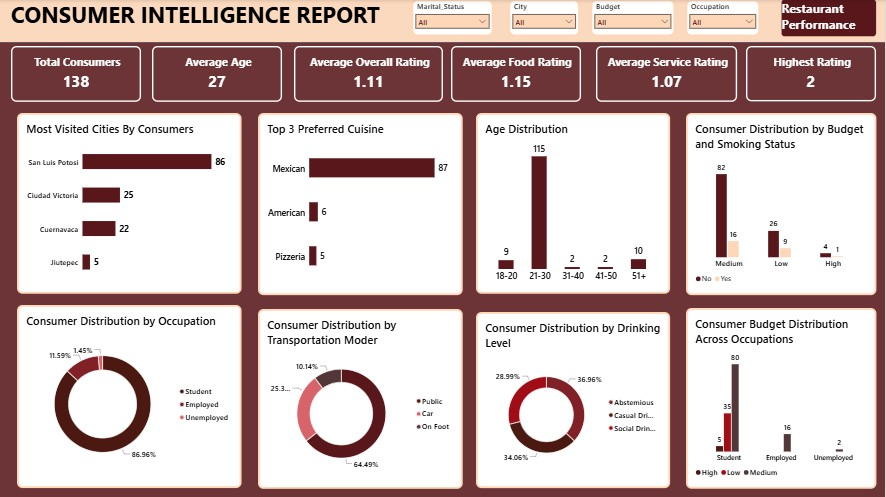

What the dashboard file says about the page in this screenshot:
{"tool":"powerbi","page":{"name":"Page 1","canvas":[1920,1080],"ordinal":0},"visuals":[{"type":"card","title":"Total Consumers","fields":{"Values":["Consumers.Total Customers"]},"box":[23.9,101.9,281.9,121.4],"z":0},{"type":"card","title":"Average Age","fields":{"Values":["Consumers.Average Age"]},"box":[329.6,101.9,281.9,121.4],"z":1000},{"type":"card","title":"Average Overall Rating ","fields":{"Values":["ratings.Average Rating"]},"box":[637.6,101.9,323.1,121.4],"z":2000},{"type":"card","title":"Average Food Rating ","fields":{"Values":["ratings.Average Food Rating"]},"box":[978.1,101.9,281.9,121.4],"z":3000},{"type":"card","title":"Average Service Rating","fields":{"Values":["ratings.Average Service Rating"]},"box":[1292.5,101.9,305.8,121.4],"z":4000},{"type":"card","title":"Highest Rating","fields":{"Values":["ratings.Highest Rating"]},"box":[1618.2,102.3,281.8,120.5],"z":5000},{"type":"donutChart","title":"Consumer Distribution by Occupation","fields":{"Category":["Consumers.Occupation"],"Y":["CountNonNull(Consumers.Consumer_ID)"]},"box":[35.9,664.1,487.2,397.4],"z":6000},{"type":"clusteredColumnChart","title":"Age Distribution","fields":{"Category":["Consumers.Age Group"],"Y":["CountNonNull(Consumers.Consumer_ID)"]},"box":[1033.3,246.2,420.5,392.3],"z":7000},{"type":"clusteredBarChart","title":"Top 3 Preferred Cuisine","fields":{"Category":["consumer_preferences.Preferred_Cuisine"],"Y":["CountNonNull(consumer_preferences.Consumer_ID)"]},"box":[559,246.2,443.6,394.9],"z":8000},{"type":"clusteredColumnChart","title":"Consumer Budget Distribution Across Occupations","fields":{"Category":["Consumers.Occupation"],"Series":["Consumers.Budget"],"Y":["CountNonNull(ratings.Consumer_ID)"]},"box":[1487.2,669.2,412.8,392.3],"z":9000},{"type":"clusteredColumnChart","title":"Consumer Distribution by Budget and Smoking Status","fields":{"Category":["Consumers.Budget"],"Y":["CountNonNull(Consumers.Consumer_ID)"],"Series":["Consumers.Smoker"]},"box":[1487.2,246.2,412.8,394.9],"z":10000},{"type":"donutChart","title":"Consumer Distribution by  Transportation  Moder","fields":{"Y":["CountNonNull(Consumers.Consumer_ID)"],"Category":["Consumers.Transportation_Method"]},"box":[559,671.8,443.6,389.7],"z":11000},{"type":"donutChart","title":"Consumer Distribution by Drinking Level","fields":{"Category":["Consumers.Drink_Level"],"Y":["CountNonNull(Consumers.Consumer_ID)"]},"box":[1033.3,679.5,420.5,382.1],"z":12000},{"type":"clusteredBarChart","title":"Most Visited Cities By Consumers","fields":{"Category":["Consumers.City"],"Y":["CountNonNull(Consumers.Consumer_ID)"]},"box":[35.9,246.2,487.2,392.3],"z":13000},{"type":"textbox","box":[22.9,0,879.2,81.2],"z":14000},{"type":"slicer","fields":{"Values":["Consumers.City"]},"box":[1102.3,0,156.8,81.8],"z":15000},{"type":"slicer","fields":{"Values":["Consumers.Marital_Status"]},"box":[890.9,0,179.5,81.8],"z":16000},{"type":"slicer","fields":{"Values":["Consumers.Occupation"]},"box":[1486.4,0,163.6,81.8],"z":17000},{"type":"slicer","fields":{"Values":["Consumers.Budget"]},"box":[1279.5,0,186.4,81.8],"z":18000},{"type":"actionButton","title":"Restaurant Performance","box":[1693.2,0,206.8,81.8],"z":19000}]}

Visuals, with their boxes in screenshot pixels (x1, y1, x2, y2), scaled from the page's 1920x1080 canvas onto the 886x497 screenshot:
"Total Consumers" card: [11, 47, 141, 103]
"Average Age" card: [152, 47, 282, 103]
"Average Overall Rating " card: [294, 47, 443, 103]
"Average Food Rating " card: [451, 47, 581, 103]
"Average Service Rating" card: [596, 47, 738, 103]
"Highest Rating" card: [747, 47, 877, 103]
"Consumer Distribution by Occupation" donutChart: [17, 306, 241, 488]
"Age Distribution" clusteredColumnChart: [477, 113, 671, 294]
"Top 3 Preferred Cuisine" clusteredBarChart: [258, 113, 463, 295]
"Consumer Budget Distribution Across Occupations" clusteredColumnChart: [686, 308, 877, 488]
"Consumer Distribution by Budget and Smoking Status" clusteredColumnChart: [686, 113, 877, 295]
"Consumer Distribution by  Transportation  Moder" donutChart: [258, 309, 463, 488]
"Consumer Distribution by Drinking Level" donutChart: [477, 313, 671, 489]
"Most Visited Cities By Consumers" clusteredBarChart: [17, 113, 241, 294]
textbox: [11, 0, 416, 37]
slicer - Consumers.City: [509, 0, 581, 38]
slicer - Consumers.Marital_Status: [411, 0, 494, 38]
slicer - Consumers.Occupation: [686, 0, 761, 38]
slicer - Consumers.Budget: [590, 0, 676, 38]
"Restaurant Performance" actionButton: [781, 0, 877, 38]
